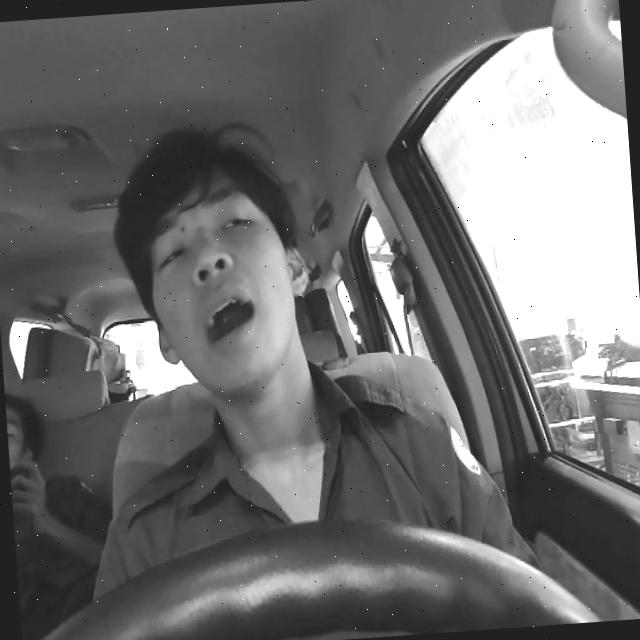yarning: (136, 170, 317, 397)
